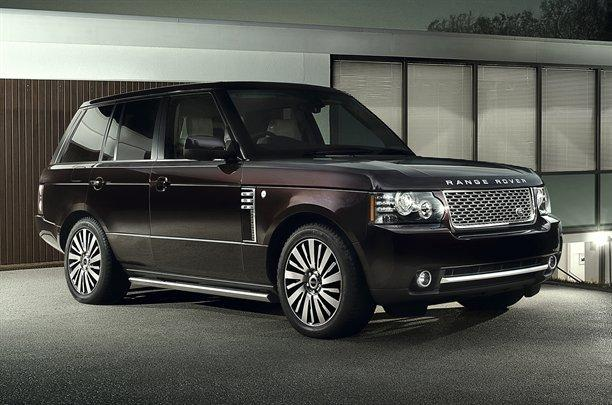range rover: (442, 175, 532, 191)
